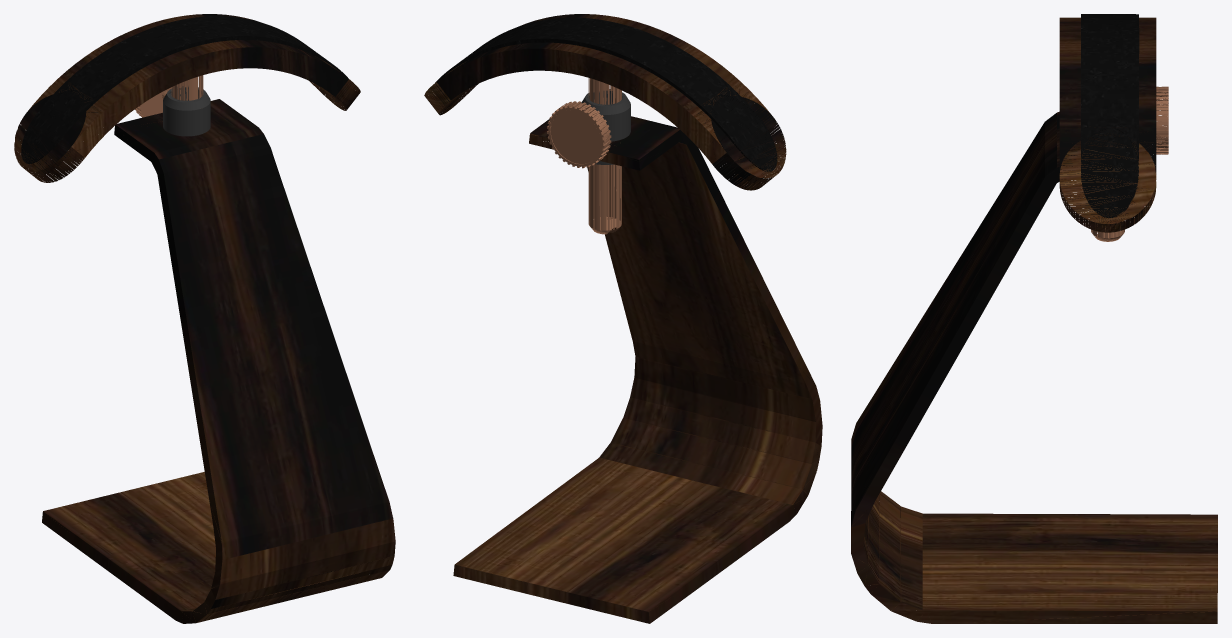
Rendered from headset-stand.glb.
3 renders of one model, left to right at view 1: azimuth 30°, elevation 25°; view 2: azimuth 150°, elevation 25°; view 3: azimuth 270°, elevation 25°, orthographic. The views are drawn at different scales.
Parts seen in each view (by area): view 1: Object_3, Object_1, Object_5, Object_2; view 2: Object_3, Object_1, Object_0, Object_2, Object_5; view 3: Object_3, Object_1, Object_0.
Part boxes in pixels (bbox=[...]): Object_3: bbox=[14, 14, 395, 623]; Object_1: bbox=[21, 16, 350, 174]; Object_5: bbox=[163, 86, 210, 136]; Object_2: bbox=[171, 75, 203, 100]; Object_3: bbox=[424, 14, 822, 623]; Object_1: bbox=[433, 17, 777, 182]; Object_0: bbox=[547, 101, 611, 168]; Object_2: bbox=[588, 78, 621, 234]; Object_5: bbox=[581, 89, 630, 164]; Object_3: bbox=[851, 17, 1217, 623]; Object_1: bbox=[1081, 14, 1139, 225]; Object_0: bbox=[1156, 86, 1168, 154].
Size of the model in its own units: 0.1902 by 0.28 by 0.1728.
Materials: 5 (2 with a texture image).
